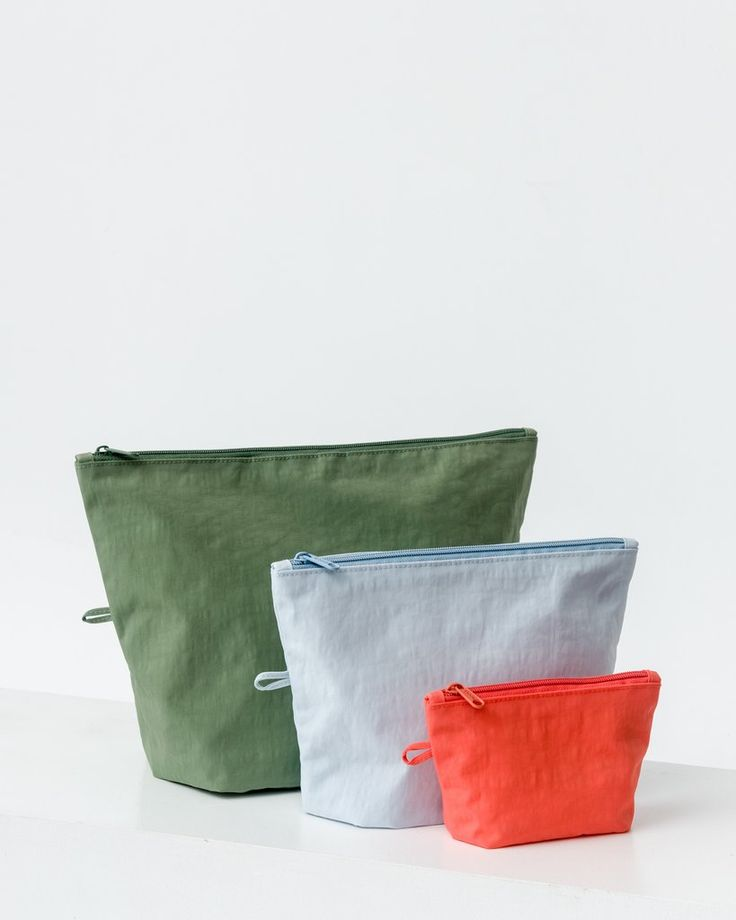nylon: (72, 427, 661, 850)
